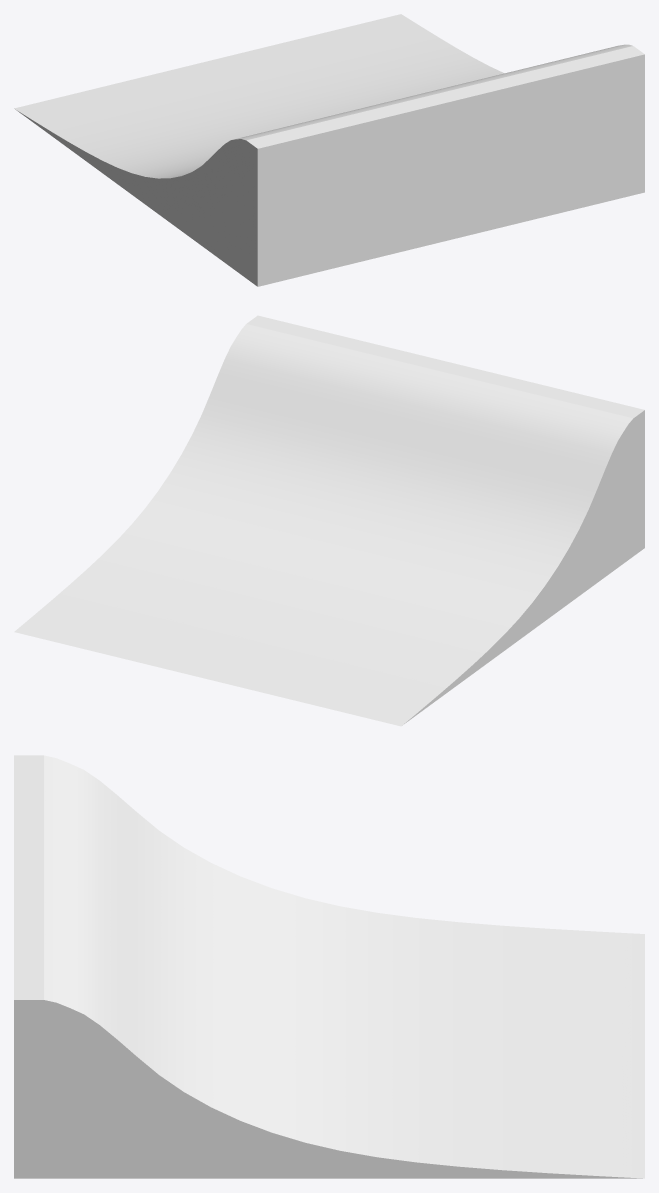
The model's file is RampC.fbx.
3 renders of one model, top to bottom at view 1: azimuth 30°, elevation 25°; view 2: azimuth 150°, elevation 25°; view 3: azimuth 270°, elevation 25°, orthographic. The views are drawn at different scales.
Parts seen in each view (by area): view 1: RampC; view 2: RampC; view 3: RampC.
Part boxes in pixels (x1,y1,x2,y2): RampC: (14,14,644,286); RampC: (14,315,644,726); RampC: (14,755,644,1178).
Bounding box in the file's own units: 242 × 82.51 × 264.
Materials: 1 (1 with a texture image).
